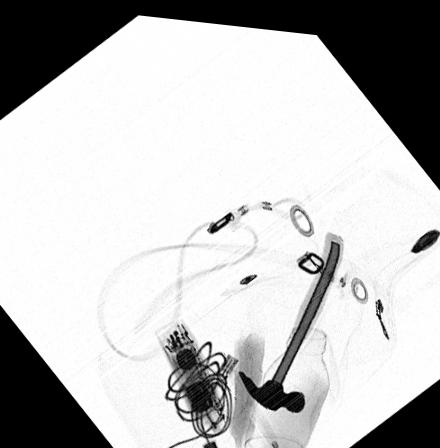Hammer: (237, 222, 342, 406)
